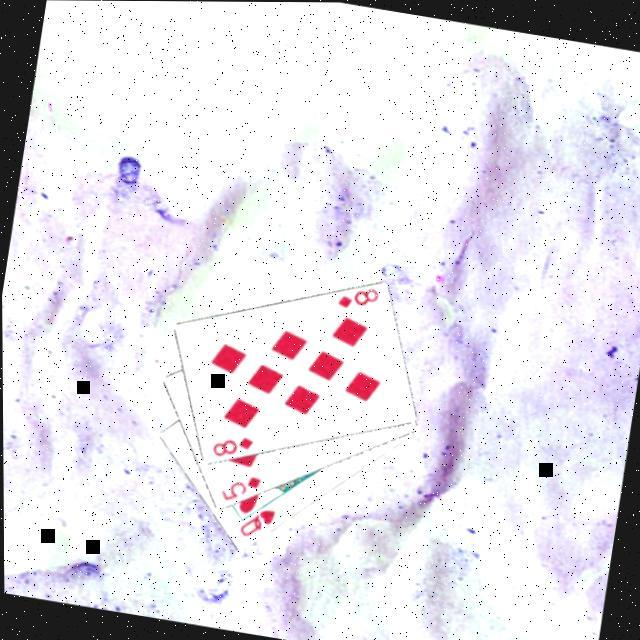5D: (214, 469, 263, 510)
8D: (205, 428, 255, 465), (331, 280, 381, 317)
QH: (233, 503, 276, 545)
